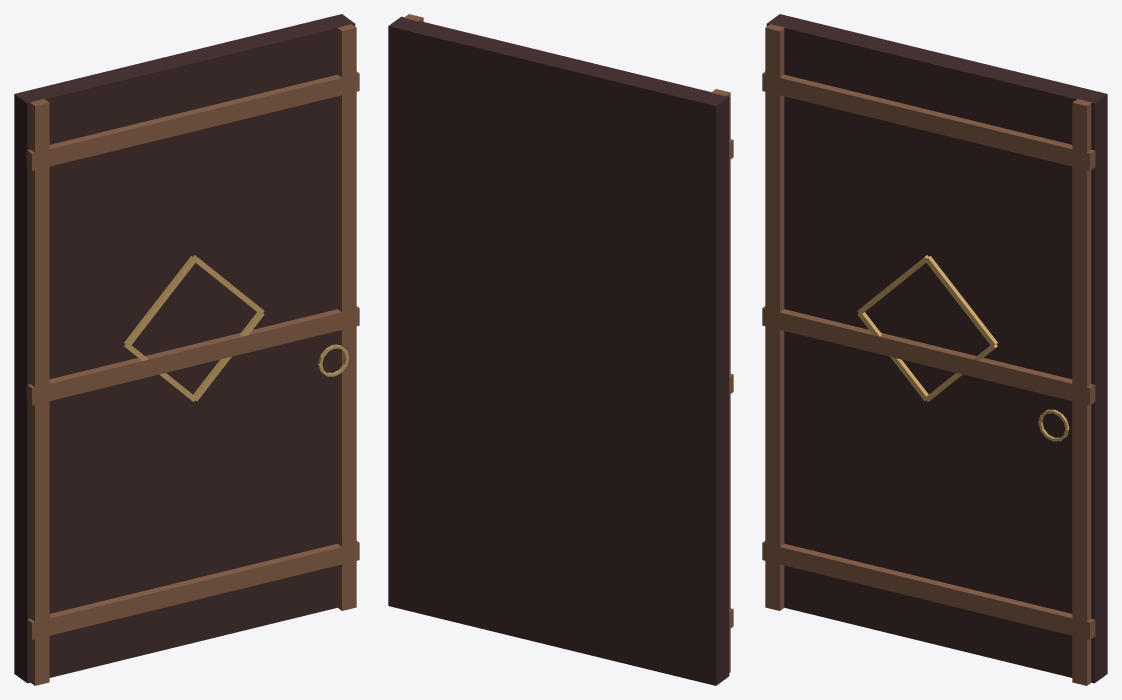
The model's file is grand_door_leaf.glb.
3 renders of one model, left to right at view 1: azimuth 30°, elevation 25°; view 2: azimuth 150°, elevation 25°; view 3: azimuth 330°, elevation 25°, orthographic.
Visible parts, largest first — view 1: Grand / Timber, Grand / Cedar, Grand / Bronze; view 2: Grand / Timber, Grand / Cedar; view 3: Grand / Timber, Grand / Cedar, Grand / Bronze.
Part boxes in pixels (x1=…): Grand / Timber: x1=14, y1=14, x2=355, y2=683; Grand / Cedar: x1=26, y1=24, x2=359, y2=685; Grand / Bronze: x1=124, y1=255, x2=348, y2=401; Grand / Timber: x1=388, y1=16, x2=729, y2=685; Grand / Cedar: x1=404, y1=14, x2=733, y2=672; Grand / Timber: x1=766, y1=14, x2=1107, y2=683; Grand / Cedar: x1=762, y1=24, x2=1095, y2=685; Grand / Bronze: x1=857, y1=255, x2=1069, y2=441.
Bounding box in the file's own units: 3.16 × 5.34 × 0.3925.
